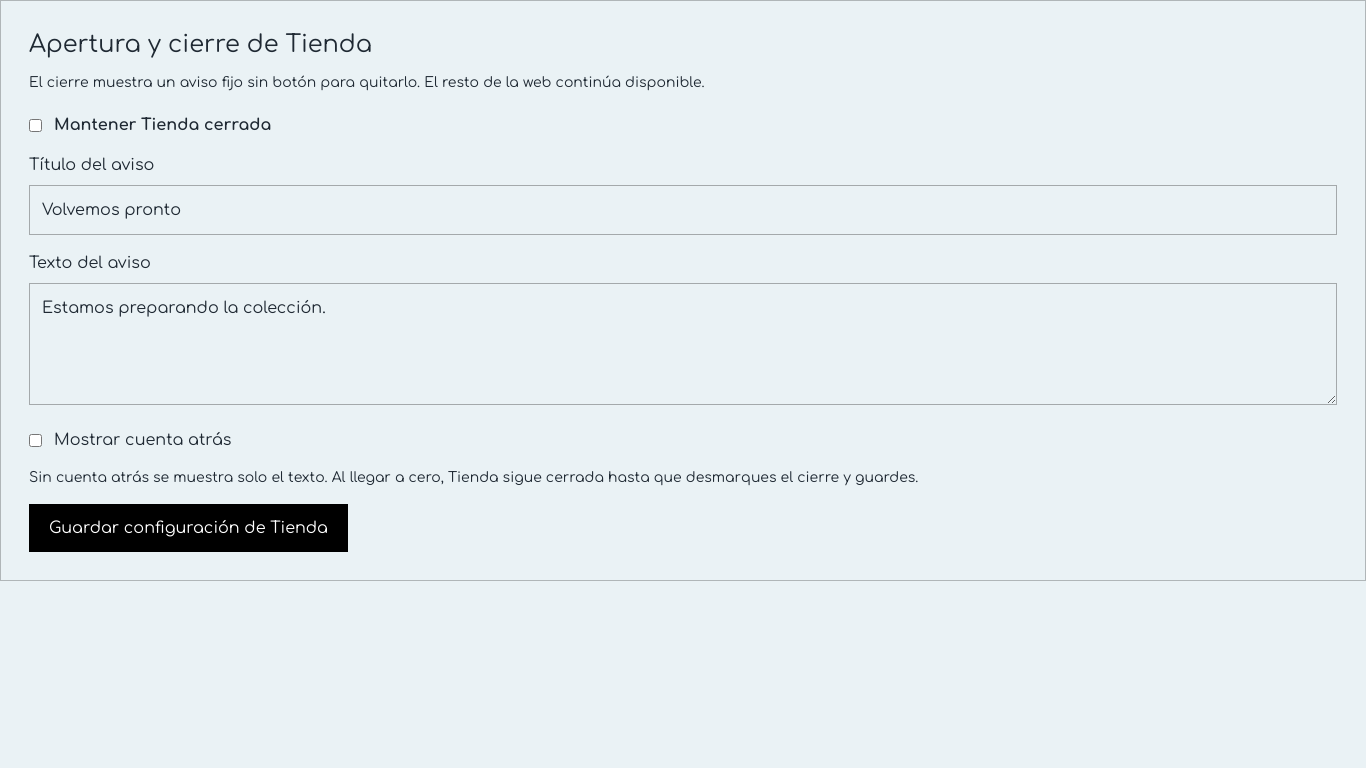
it: AdminShopSettings › guarda el cierre true e informa del resultado
The width and height of the screenshot is (1366, 768).
Click the checkbox labelled "Mantener Tienda cerrada" at (36, 125), box [29, 118, 42, 132]
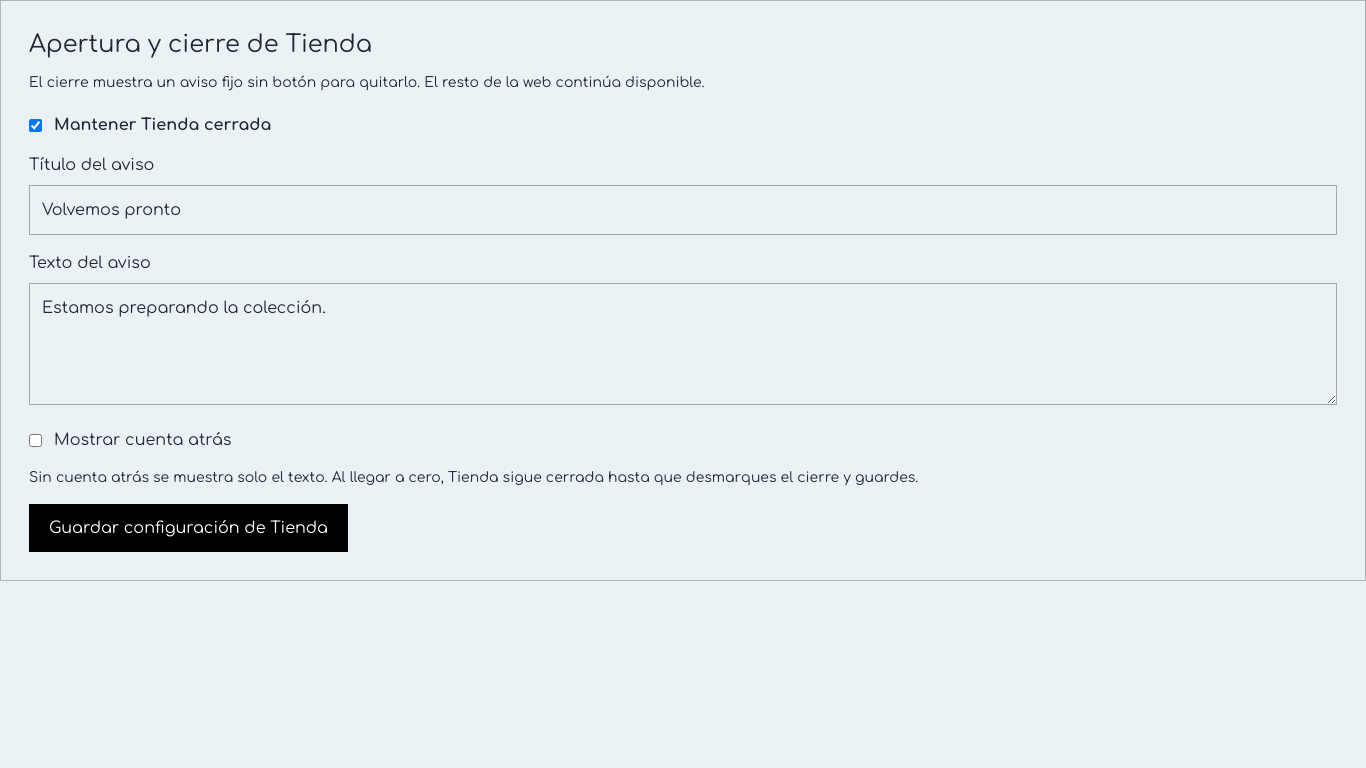
Replace the text in the field labelled "Título del aviso" with "  Nueva colección  " at (683, 210), box [29, 185, 1337, 235]
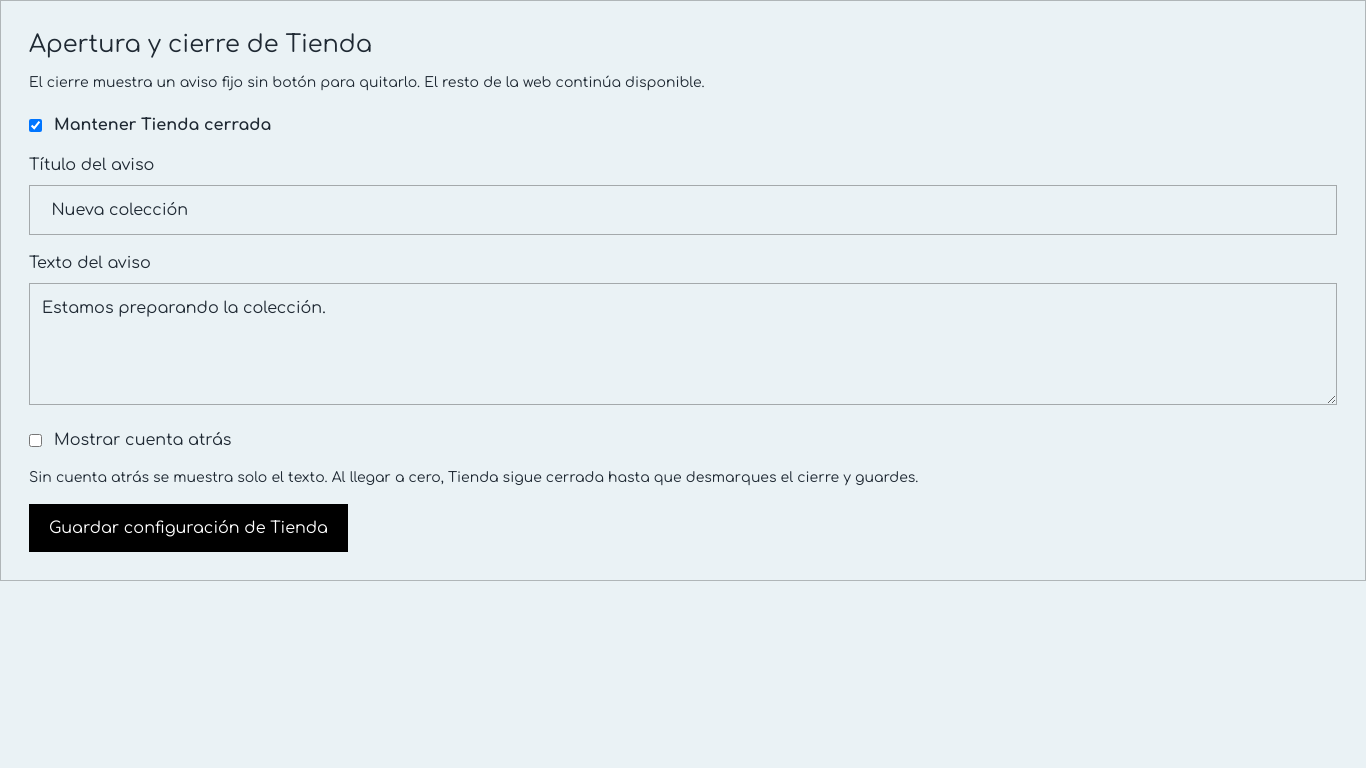
Replace the text in the text box labelled "Texto del aviso" with "  Texto del aviso  " at (683, 344), box [29, 283, 1337, 405]
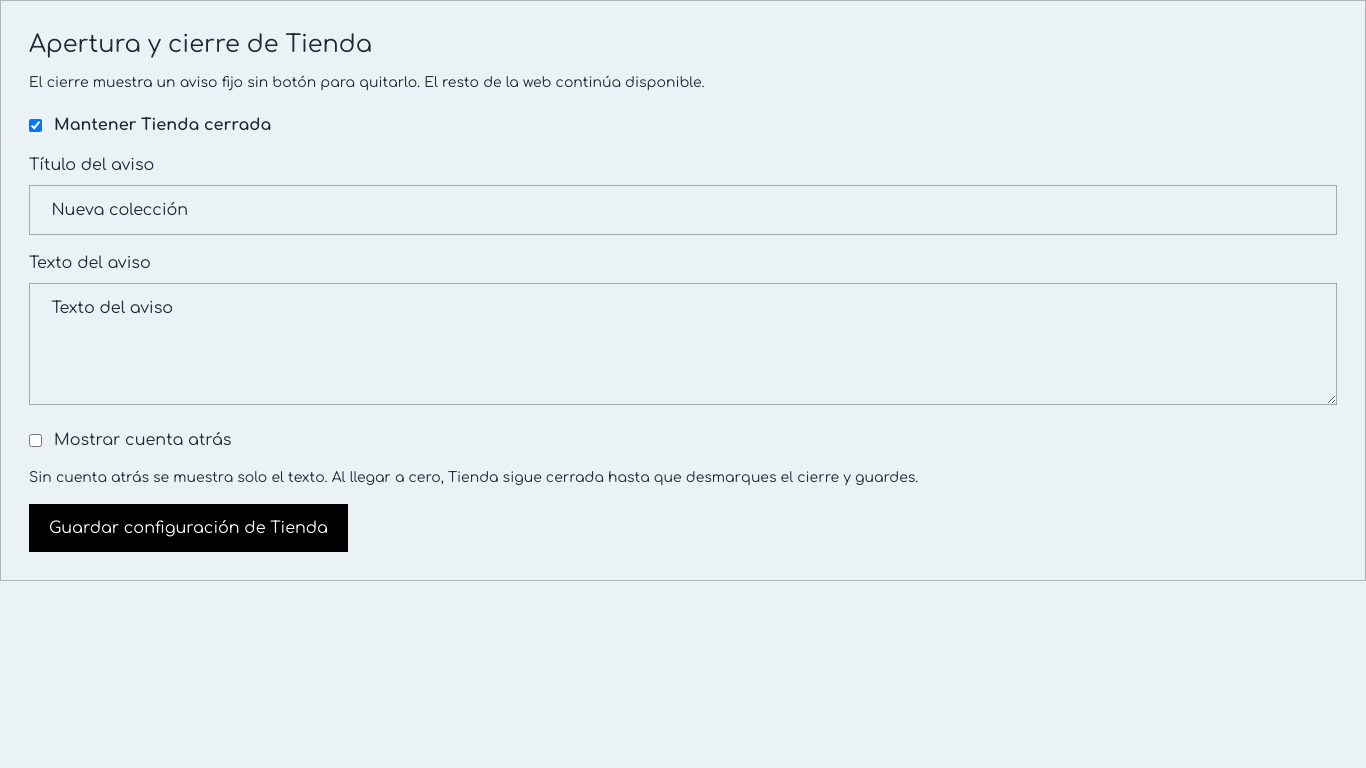
Submit the form, box [29, 113, 1337, 552]
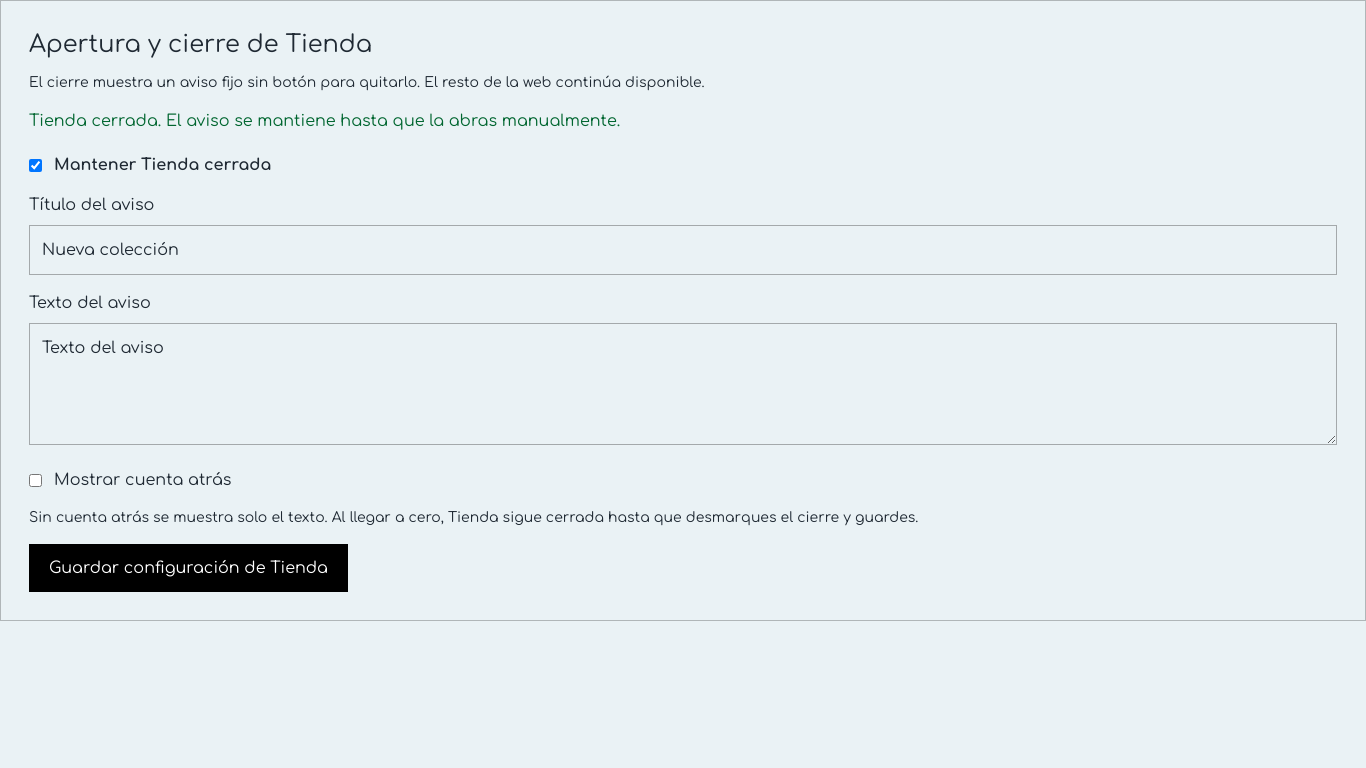
Now the message "Tienda cerrada. El aviso se mantiene hasta que la abras manualmente." is shown, box [29, 112, 620, 130]
